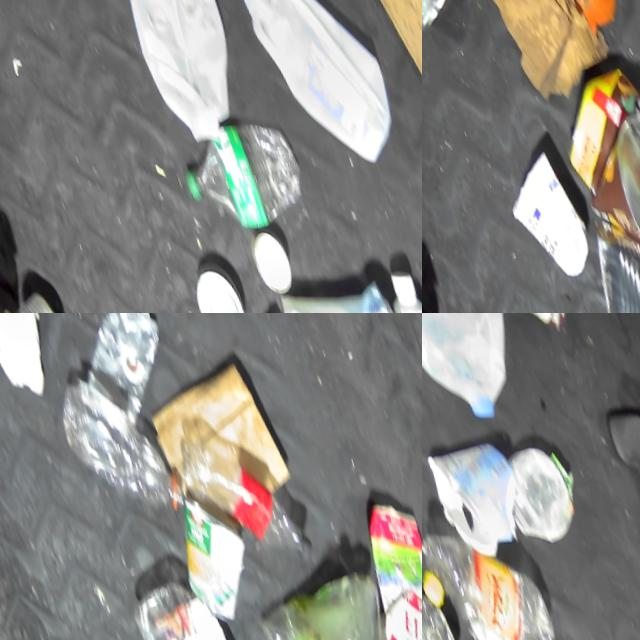can: (535, 53, 640, 271), (146, 484, 258, 627), (553, 211, 640, 313), (234, 223, 288, 296), (175, 257, 245, 313), (422, 586, 459, 640), (0, 286, 61, 313)
milk_jug: (226, 0, 403, 176), (90, 0, 255, 148), (422, 313, 547, 428)
non_white_jug: (313, 487, 422, 640)
plastic_bottle: (156, 411, 312, 590), (36, 362, 182, 530), (162, 108, 308, 238), (422, 509, 556, 640), (108, 567, 233, 640)
